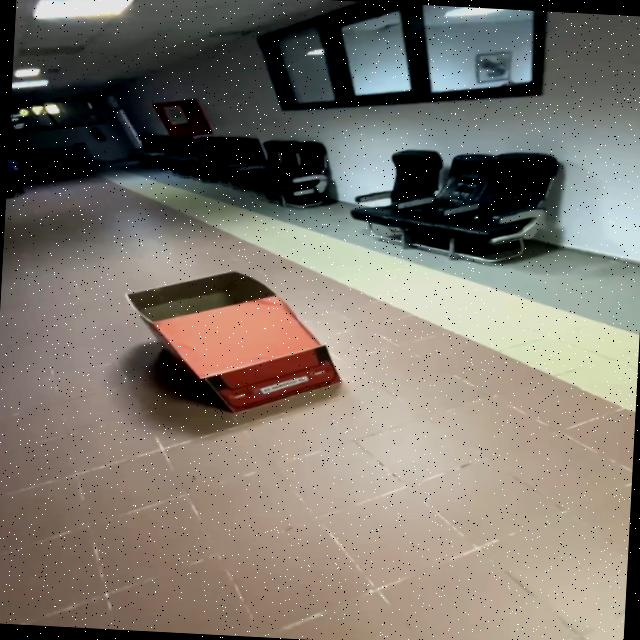red_car: (95, 256, 377, 425)
